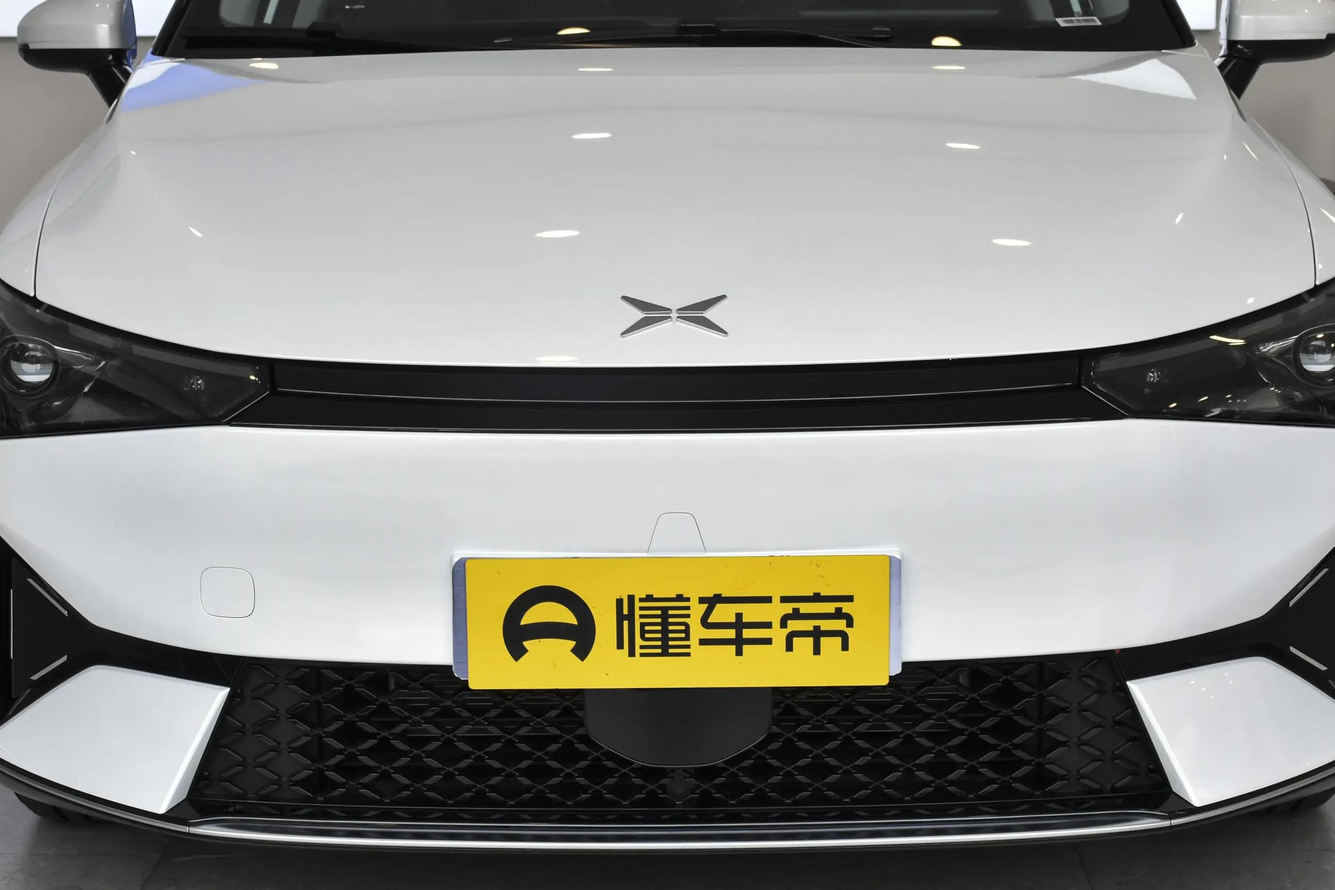XPeng Motors: (620, 294, 729, 336)
